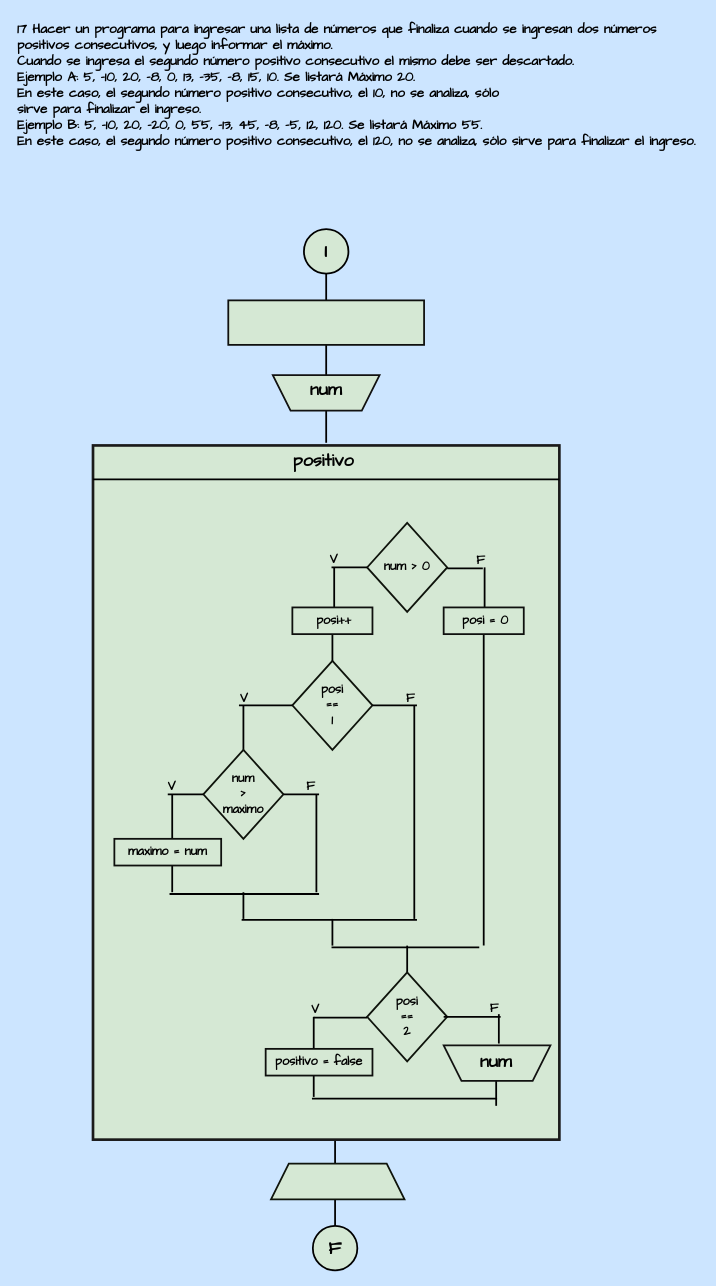
The diagram is 716 pixels wide and 1286 high, and some of its shapes have lost their labels. The shapes that lost their labels are listed below. From the top down, each one's centre as x and y in pixels, then its label:
pixel 326 322: int num, maximo = 0, posi = 0 bool positivo = true
pixel 337 1181: maximo
